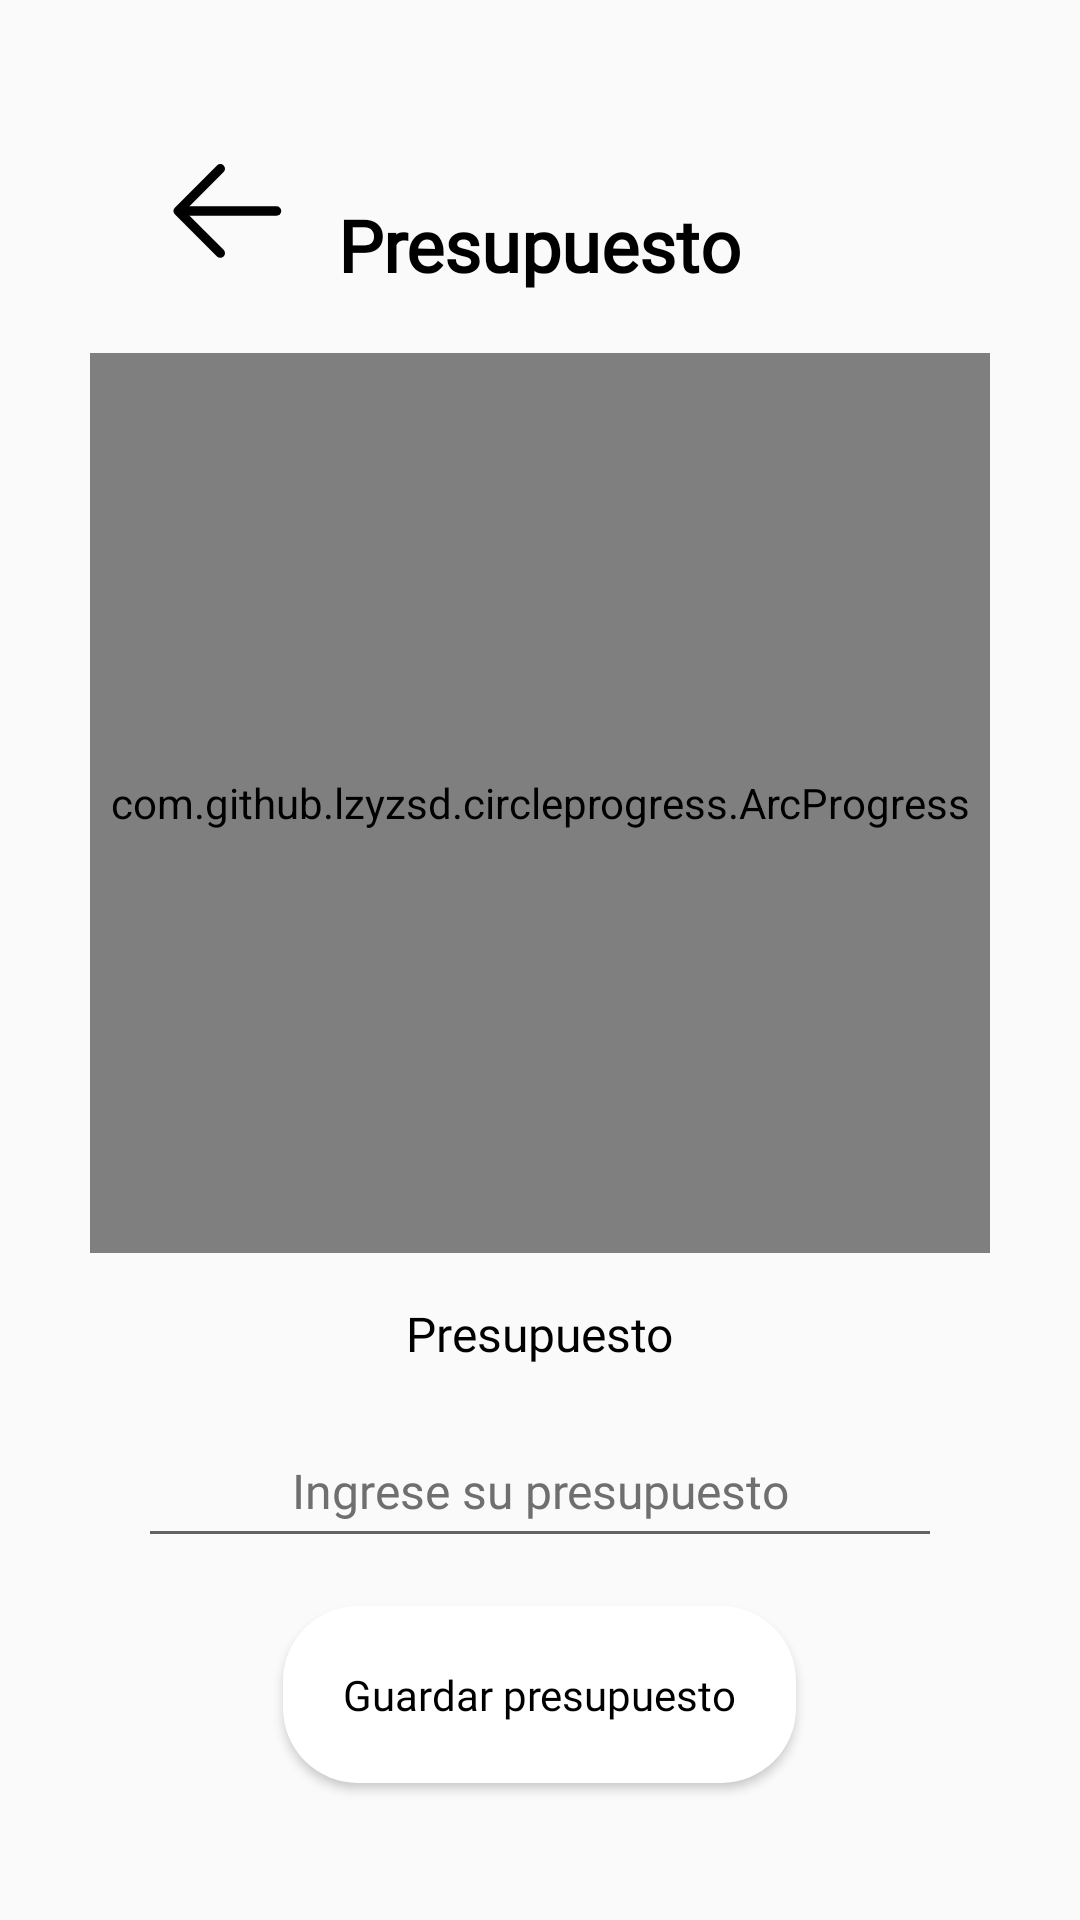

Screen size 1080*1920. Icon name, then its box in pixels as (x1, y1, x2, y2):
back: (173, 164, 282, 258)
